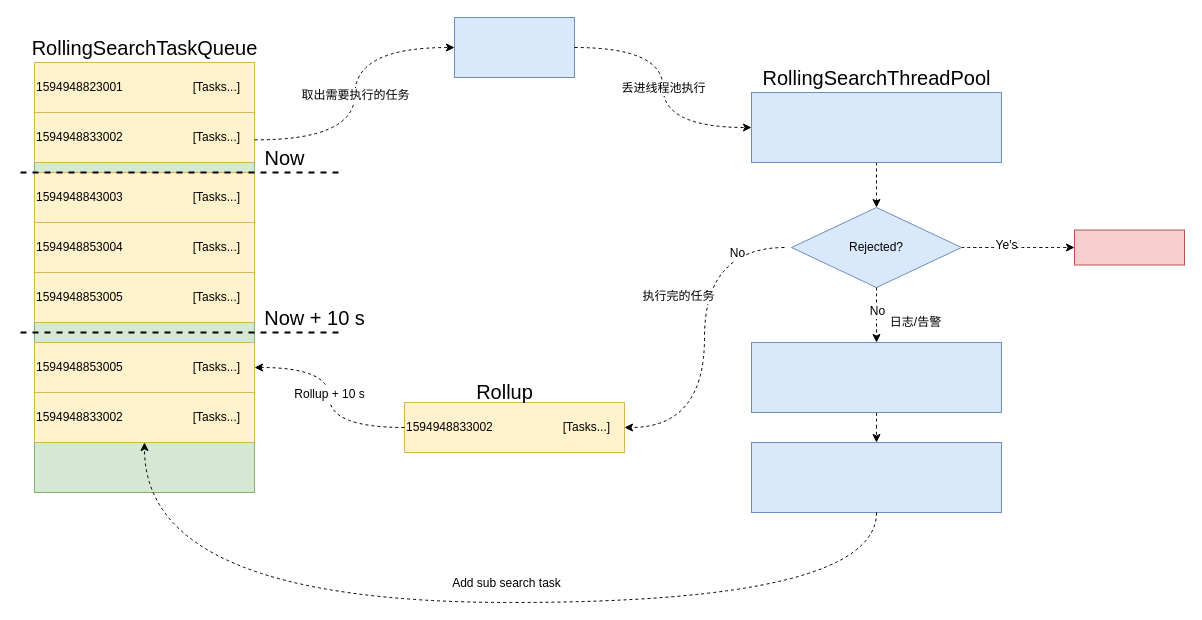
Image size: 1202x620. Some labels were removed from this diagram. Here are the shapes that lost their labels. From the top down, the centre of each, then its label:
At (514,47): "Timer / 5s".
At (876,127): "parallelism: 10 worker-queue:500".
At (1129,247): "Print reject log".
At (876,377): "Update Incident / MergeAlert / MergeLog".
At (876,477): "Update Search Task Create Sub Search Task".
